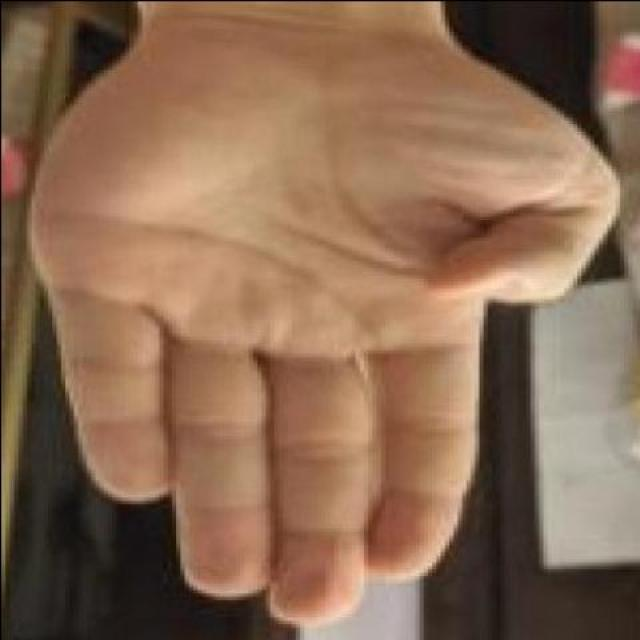Open Hand: (19, 3, 622, 624)
